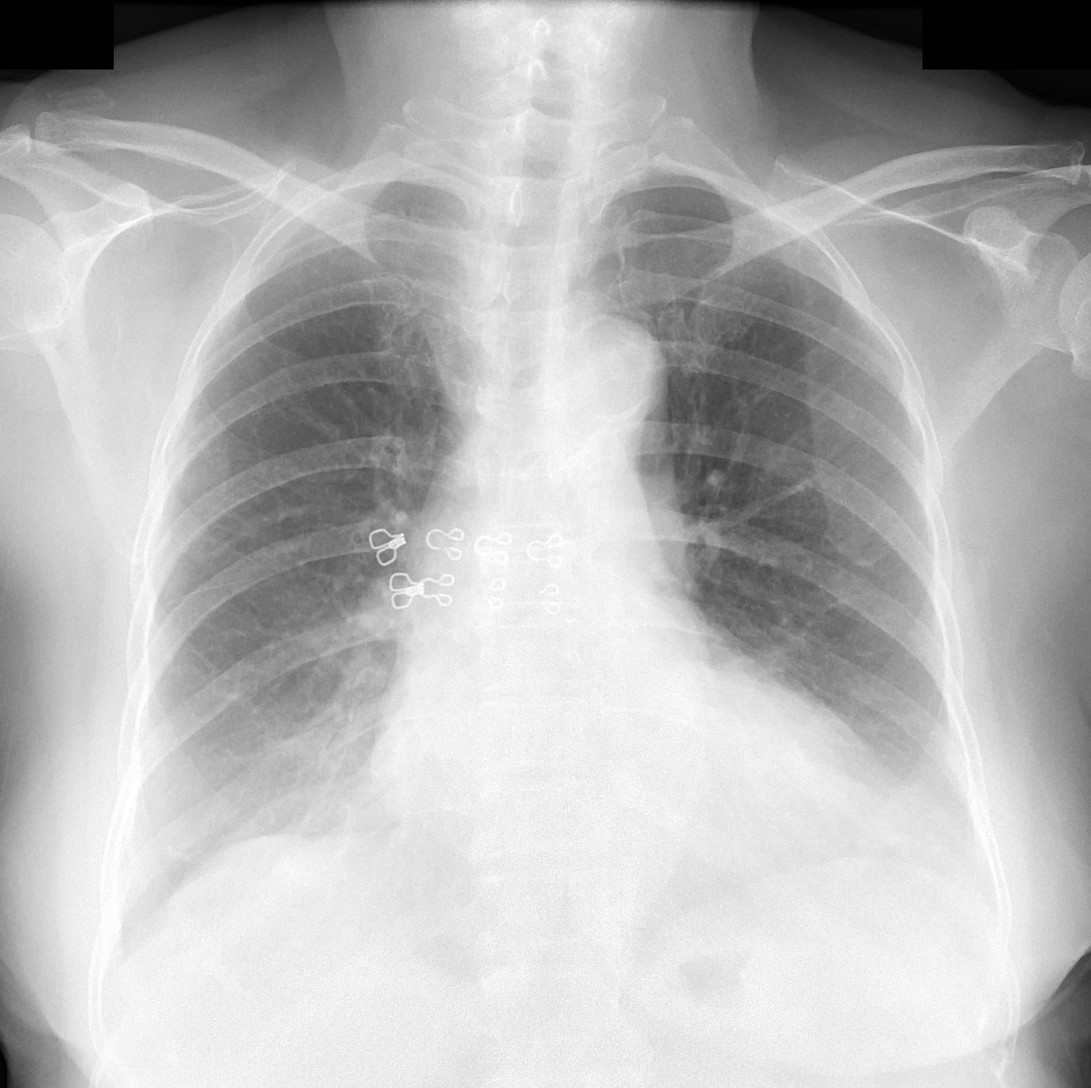Aortic enlargement: (542, 314, 667, 422)
Cardiomegaly: (357, 728, 908, 875)
